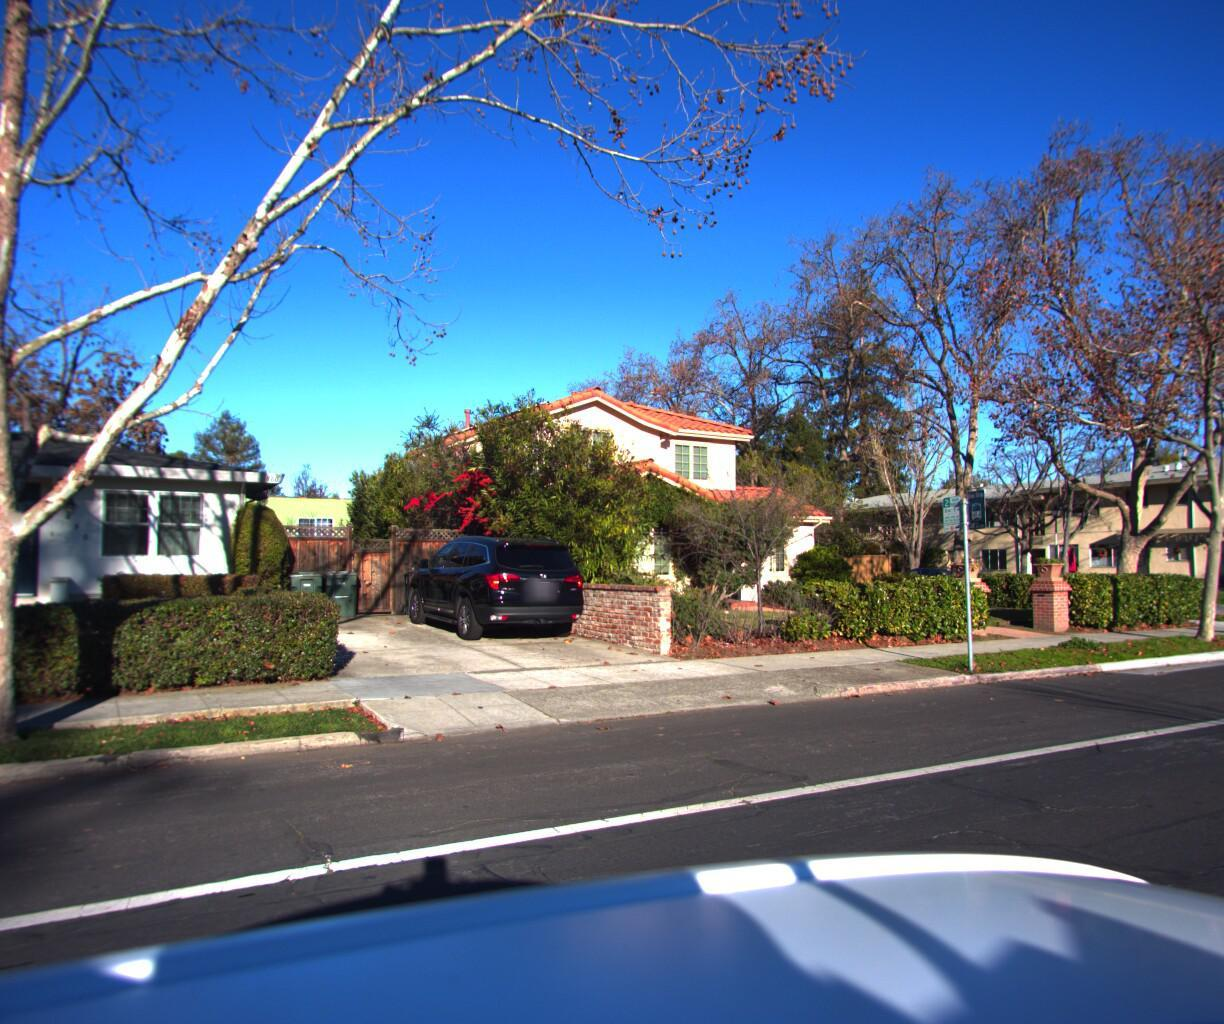car: (401, 527, 598, 647)
